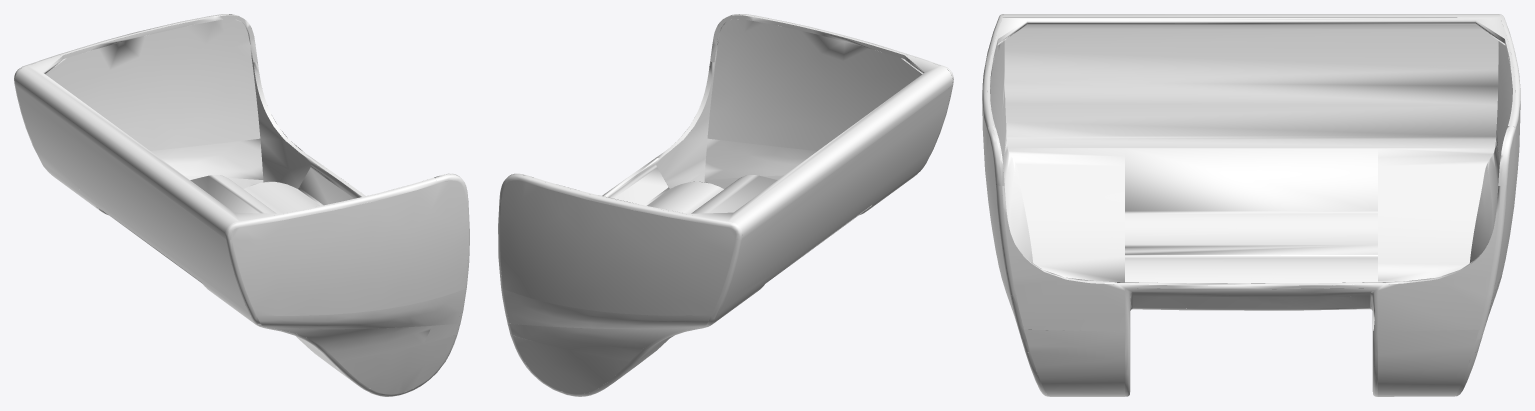
File: head_tilt.dae
3 renders of one model, left to right at view 1: azimuth 30°, elevation 25°; view 2: azimuth 150°, elevation 25°; view 3: azimuth 270°, elevation 25°, orthographic. The views are drawn at different scales.
Visible parts, largest first — view 1: Head_Tilt; view 2: Head_Tilt; view 3: Head_Tilt.
Boxes of the visible parts, x1,y1,x2,y2 form: Head_Tilt: [14, 14, 469, 396]; Head_Tilt: [498, 14, 953, 396]; Head_Tilt: [982, 14, 1520, 396].
Bounding box in the file's own units: 0.1326 × 0.2109 × 0.1173.
1 material, 1 textured.
